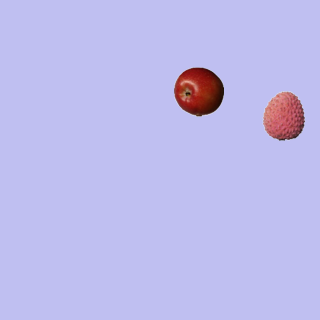Apple Braeburn: (173, 66, 223, 116)
Lychee: (258, 90, 308, 140)
